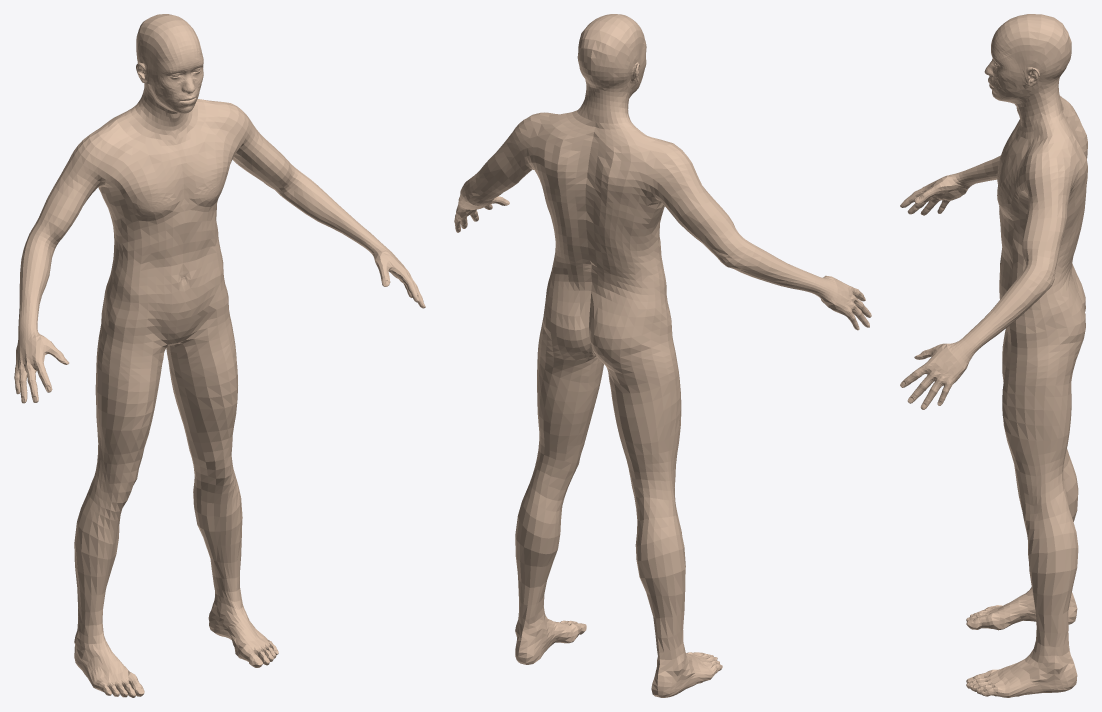
File: male-adult-fit-high.glb
3 renders of one model, left to right at view 1: azimuth 30°, elevation 25°; view 2: azimuth 150°, elevation 25°; view 3: azimuth 270°, elevation 25°, orthographic.
Parts seen in each view (by area): view 1: world; view 2: world; view 3: world.
Boxes of the visible parts, <box> form: world: <box>14,14,425,697</box>; world: <box>454,14,871,697</box>; world: <box>900,14,1087,697</box>.
Size of the model in its own units: 1.28 by 1.95 by 0.5175.
